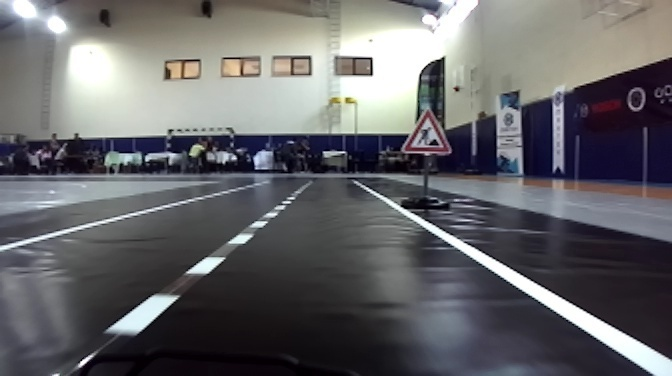yol_yapimi: (397, 105, 451, 154)
